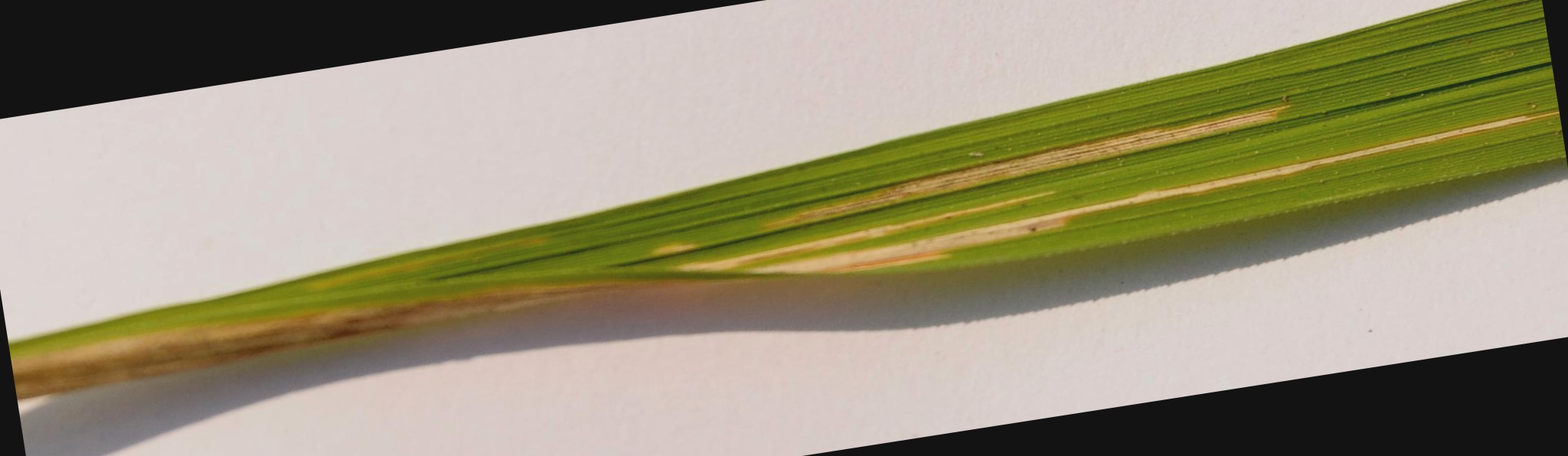Leaf_Blast: (25, 183, 1550, 273)
